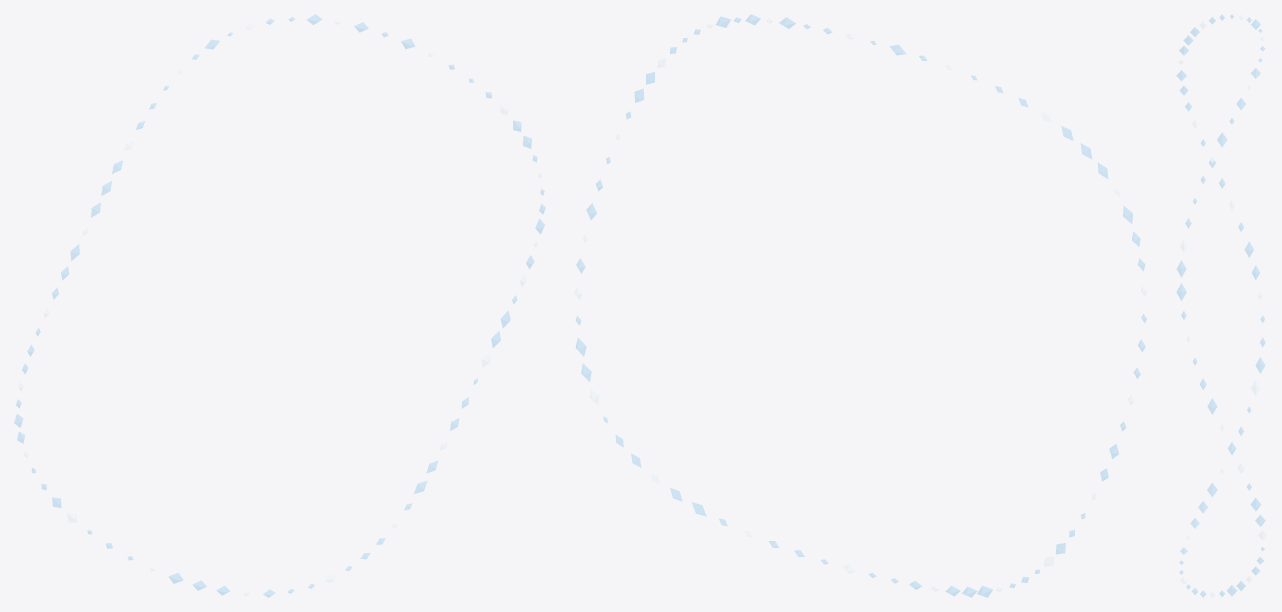
File: Note_Pulse.glb
3 renders of one model, left to right at view 1: azimuth 30°, elevation 25°; view 2: azimuth 150°, elevation 25°; view 3: azimuth 270°, elevation 25°, orthographic. The views are drawn at different scales.
Visible parts, largest first — view 1: Note_Pulse; view 2: Note_Pulse; view 3: Note_Pulse.
Part boxes in pixels (left/top/right/bottom): Note_Pulse: left=14, top=14, right=545, bottom=597; Note_Pulse: left=574, top=14, right=1147, bottom=597; Note_Pulse: left=1176, top=14, right=1267, bottom=597.
Size of the model in its own units: 0.1076 by 0.107 by 0.0168.
